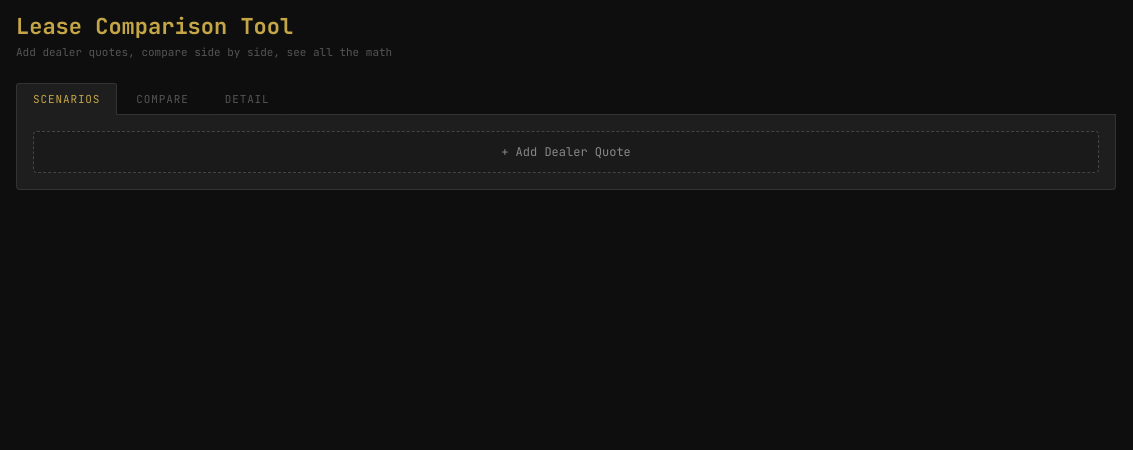
App › switches to detail tab and shows prompt when scenarios exist
Click the button "+ Add Dealer Quote" at {"x": 566, "y": 152}, box [33, 131, 1099, 173]
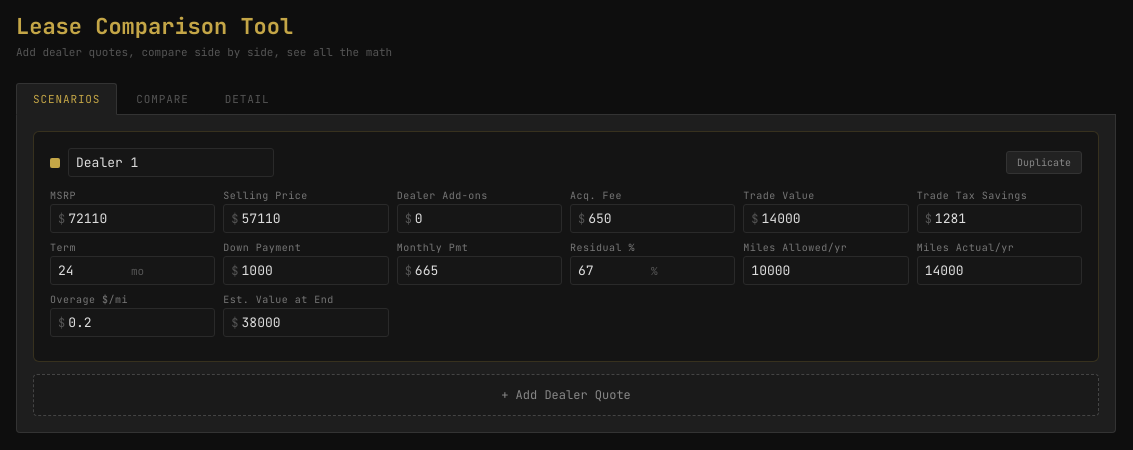
Click the button "detail" at {"x": 247, "y": 99}, box [208, 83, 287, 115]
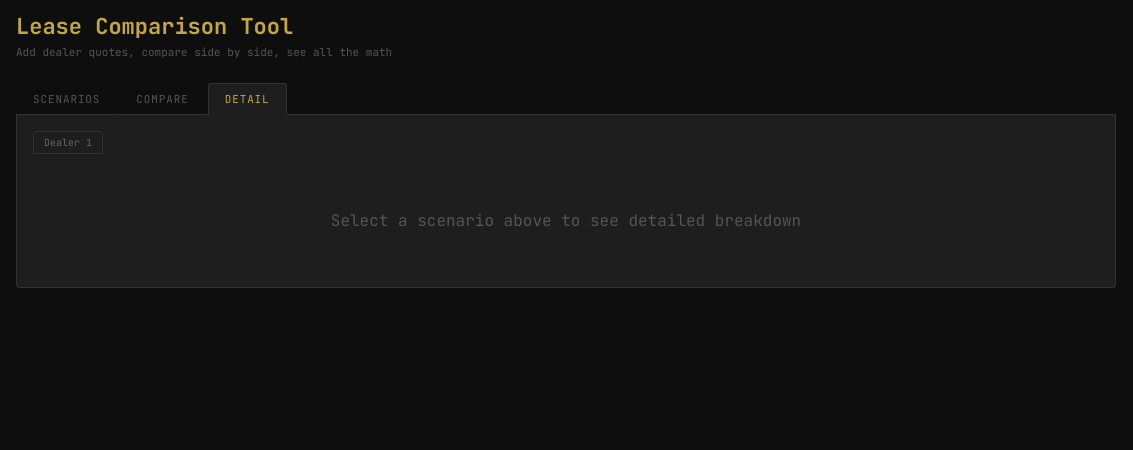
Result: the text "Select a scenario above to see detailed breakdown" is shown at [331, 210, 801, 231]
